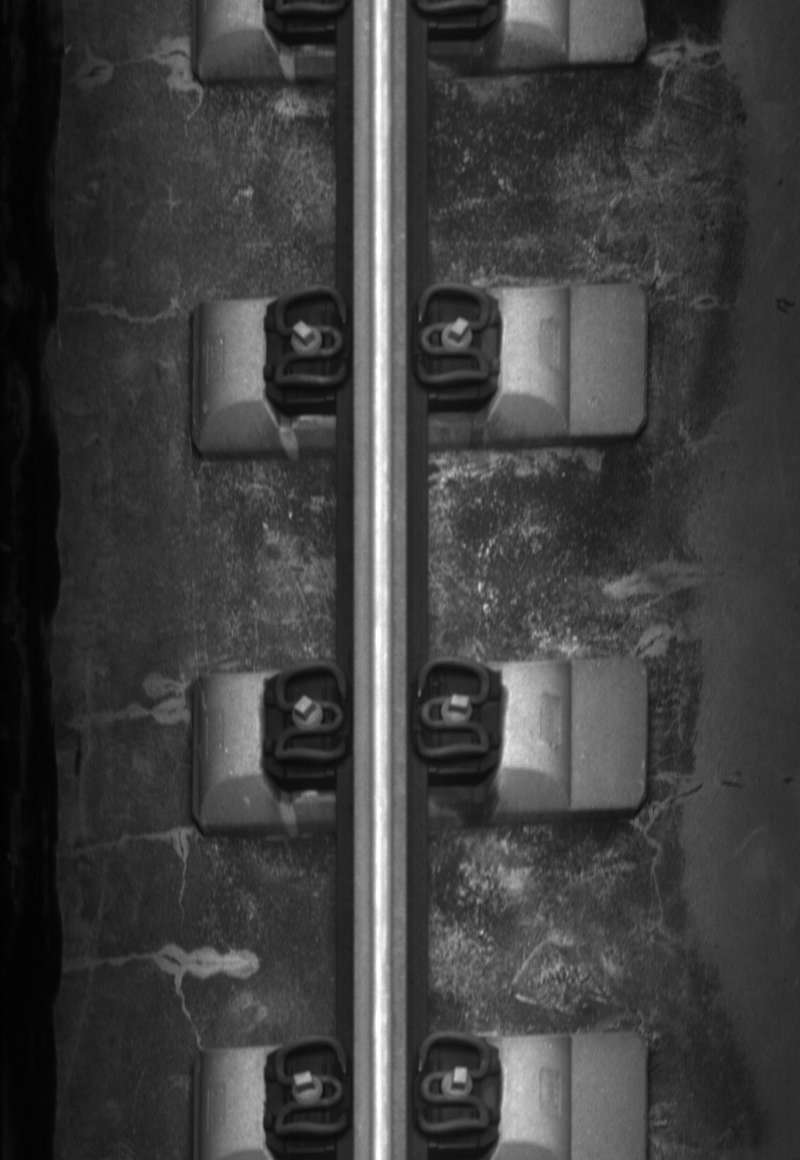l_faster: (268, 280, 353, 395), (268, 657, 351, 774), (266, 1031, 353, 1139)
r_faster: (406, 656, 499, 769), (410, 277, 494, 392), (413, 1030, 493, 1140)
